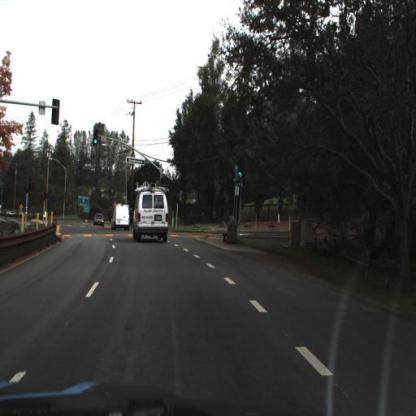car: (130, 190, 176, 243), (112, 203, 131, 234), (93, 209, 108, 231)
trafficLight-Green: (90, 126, 102, 149), (234, 170, 246, 186)
